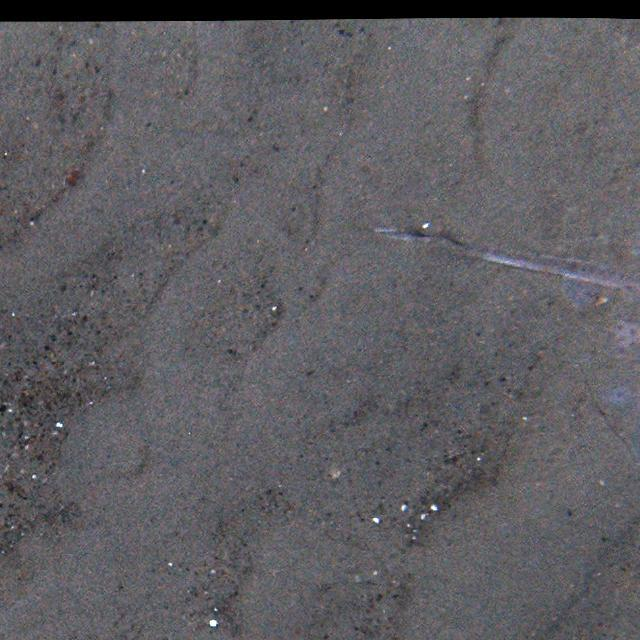skate: (390, 182, 640, 414)
